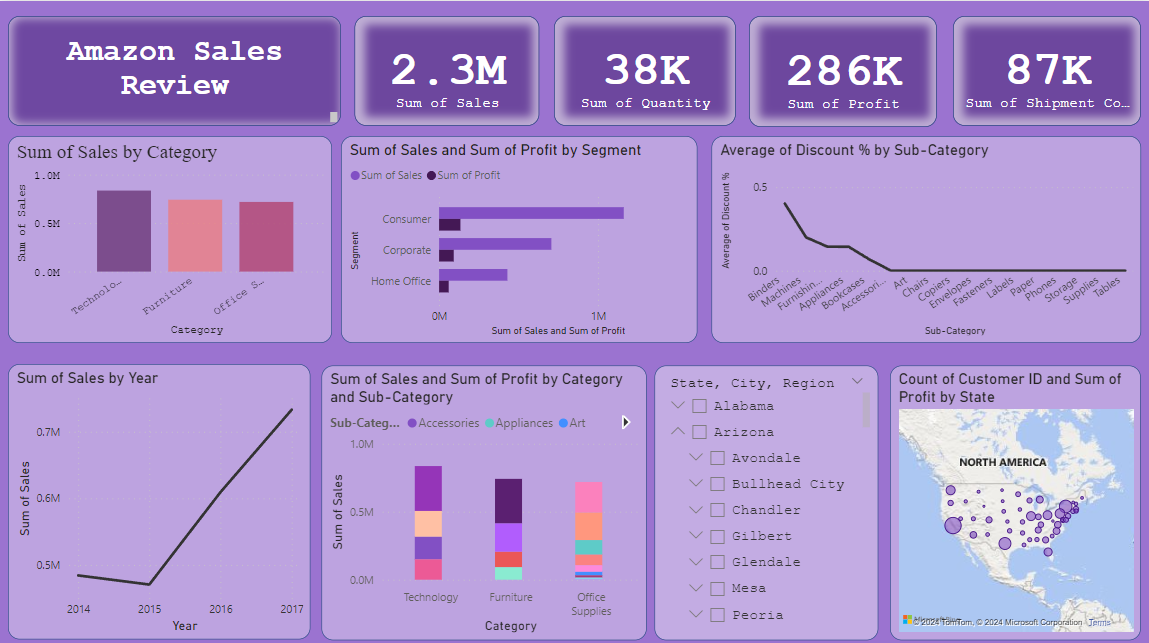

The page's visual inventory and layout, read from the dashboard file:
{"tool":"powerbi","page":{"name":"Page 2","canvas":[1280,720],"ordinal":0},"visuals":[{"type":"card","fields":{"Values":["Sum(Orders.Shipment Cost)"]},"box":[1045.2,12.9,234.6,139.1],"z":0},{"type":"textbox","box":[29.1,21,351.1,105.2],"z":1000},{"type":"columnChart","fields":{"Y":["Sum(Orders.Sales)"],"Category":["Orders.Category"]},"box":[0,137.5,370.5,223.3],"z":2000},{"type":"lineChart","fields":{"Category":["Orders.Order Date.Variation.Date Hierarchy.Year","Orders.Order Date.Variation.Date Hierarchy.Month"],"Y":["Sum(Orders.Sales)"]},"box":[0,389.9,370.5,330.1],"z":3000},{"type":"clusteredBarChart","fields":{"Category":["Orders.Segment"],"Y":["Sum(Orders.Sales)","Sum(Orders.Profit)"]},"box":[380.2,150.5,372.1,210.3],"z":4000},{"type":"ribbonChart","fields":{"Category":["Orders.Category"],"Series":["Orders.Sub-Category"],"Y":["Sum(Orders.Sales)"]},"box":[380.2,389.9,372.1,330.1],"z":5000},{"type":"lineChart","fields":{"Y":["Avg(Orders.Discount %)"],"Category":["Orders.Sub-Category"]},"box":[776.6,169.9,477.3,220],"z":6000},{"type":"slicer","fields":{"Values":["Orders.State","Orders.City","Orders.Region"]},"box":[752.4,389.9,249.2,330.1],"z":6001},{"type":"map","fields":{"Category":["Orders.State"],"Size":["CountNonNull(Orders.Customer ID)"]},"box":[1001.5,389.9,278.3,330.1],"z":6002},{"type":"card","fields":{"Values":["Sum(Orders.Profit)"]},"box":[820.3,0,213.6,150.5],"z":6003},{"type":"card","fields":{"Values":["Sum(Orders.Quantity)"]},"box":[588.9,0,202.2,150.5],"z":6004},{"type":"card","fields":{"Values":["Sum(Orders.Sales)"]},"box":[394.8,1.6,171.5,150.5],"z":6005}]}

Visuals, with their boxes in screenshot pixels (x1, y1, x2, y2), scaled from the page's 1280x720 canvas onto the 1149x643 screenshot:
card - Sum(Orders.Shipment Cost): detection(938, 12, 1148, 136)
textbox: detection(26, 19, 341, 113)
columnChart - Sum(Orders.Sales) x Orders.Category: detection(0, 123, 333, 322)
lineChart - Orders.Order Date.Variation.Date Hierarchy.Year x Orders.Order Date.Variation.Date Hierarchy.Month: detection(0, 348, 333, 642)
clusteredBarChart - Orders.Segment x Sum(Orders.Sales): detection(341, 134, 675, 322)
ribbonChart - Orders.Category x Orders.Sub-Category: detection(341, 348, 675, 642)
lineChart - Avg(Orders.Discount %) x Orders.Sub-Category: detection(697, 152, 1126, 348)
slicer - Orders.State x Orders.City: detection(675, 348, 899, 642)
map - Orders.State x CountNonNull(Orders.Customer ID): detection(899, 348, 1148, 642)
card - Sum(Orders.Profit): detection(736, 0, 928, 134)
card - Sum(Orders.Quantity): detection(529, 0, 710, 134)
card - Sum(Orders.Sales): detection(354, 1, 508, 136)
